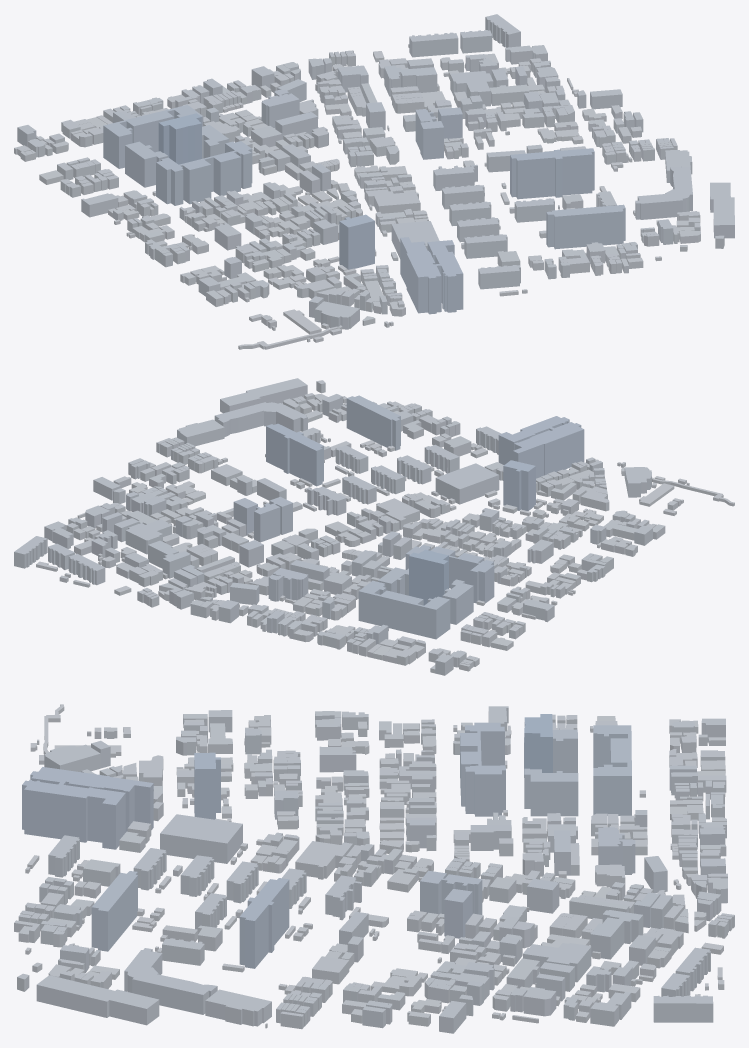
3 renders of one model, top to bottom at view 1: azimuth 30°, elevation 25°; view 2: azimuth 150°, elevation 25°; view 3: azimuth 270°, elevation 25°, orthographic. The views are drawn at different scales.
Size of the model in its own units: 539 by 50.41 by 504.
